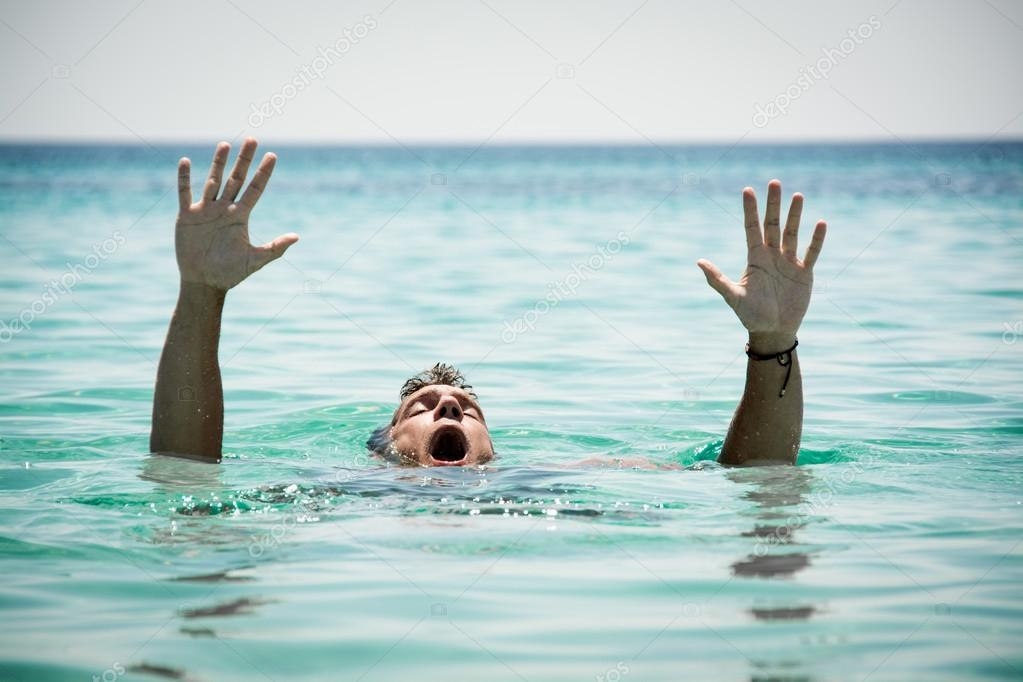swimmer: (150, 130, 830, 475)
